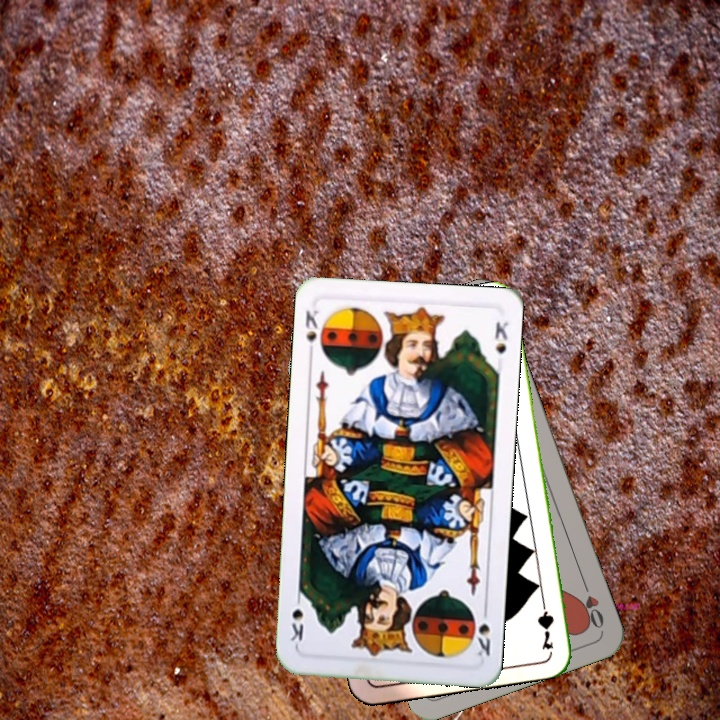G7: (533, 593, 557, 652)
HO: (576, 575, 607, 632)
SK: (473, 602, 493, 661), (301, 306, 321, 360)
